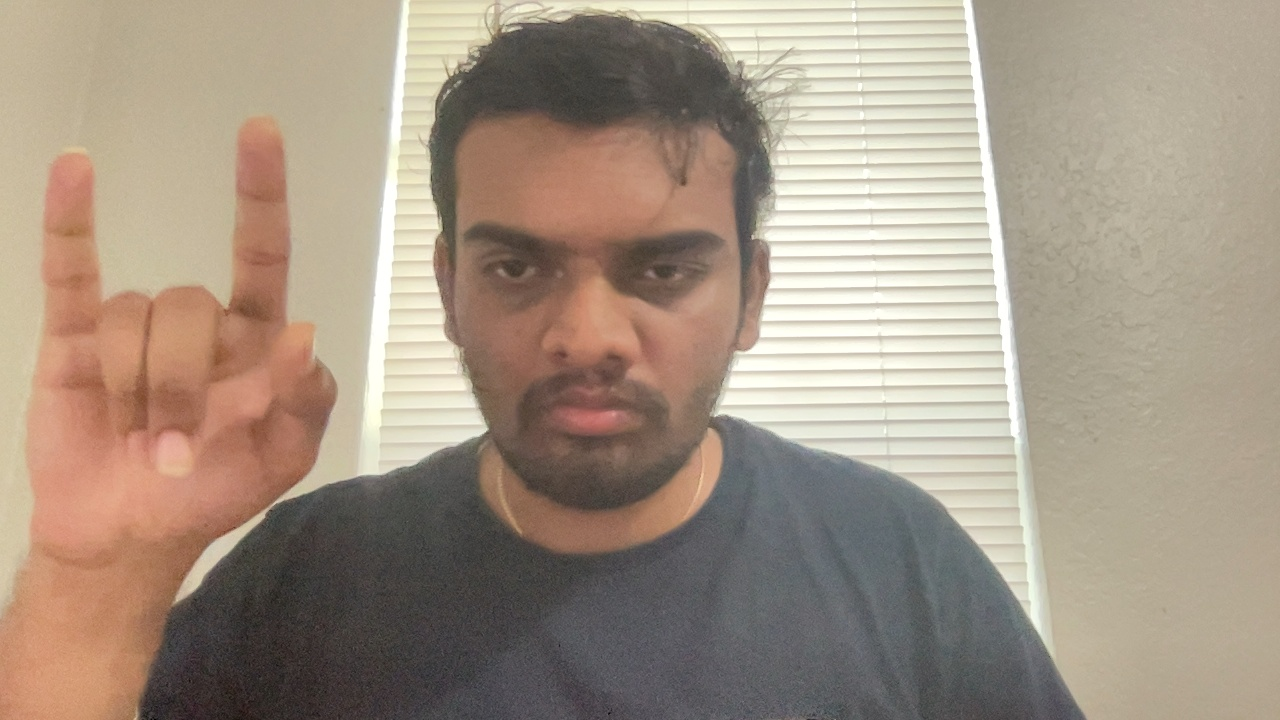i love you: (25, 111, 348, 576)
